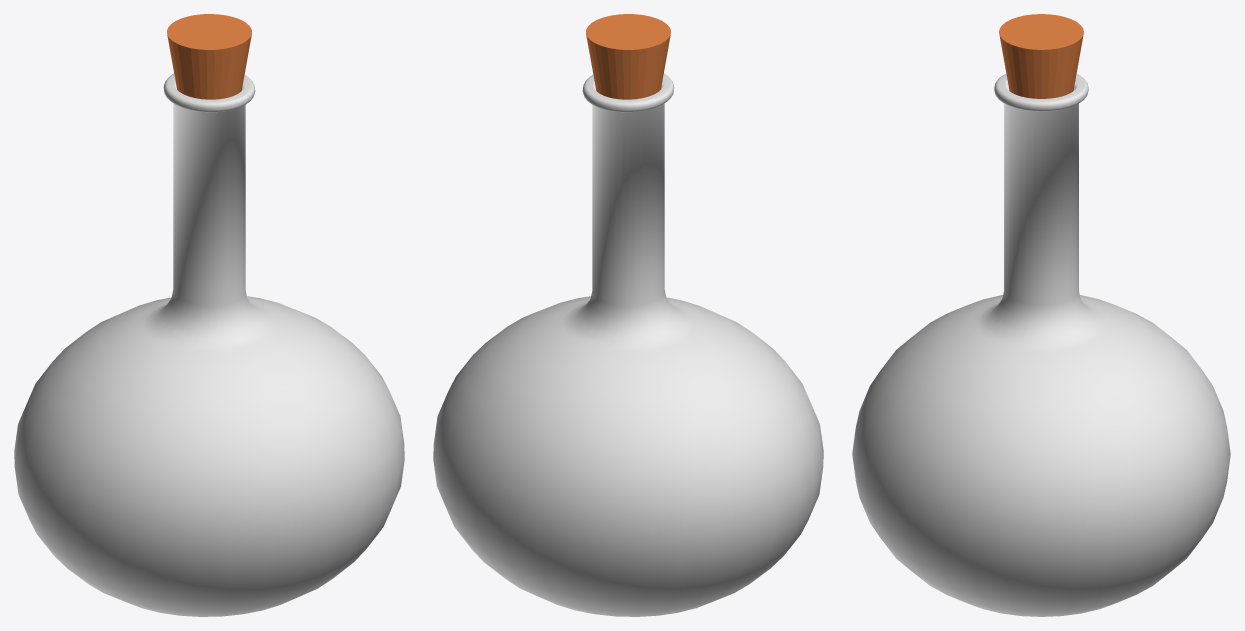
Rendered from HealthPotion.fbx.
3 views of the same model, side by side, from view 1: azimuth 30°, elevation 25°; view 2: azimuth 150°, elevation 25°; view 3: azimuth 270°, elevation 25° (orthographic).
Parts seen in each view (by area): view 1: Vial, Cork; view 2: Vial, Cork; view 3: Vial, Cork.
Part boxes in pixels (x1=…): Vial: x1=14, y1=73, x2=404, y2=616; Cork: x1=167, y1=14, x2=251, y2=99; Vial: x1=433, y1=73, x2=823, y2=616; Cork: x1=586, y1=14, x2=670, y2=99; Vial: x1=852, y1=74, x2=1230, y2=616; Cork: x1=999, y1=14, x2=1083, y2=98.
Bounding box in the file's own units: 317 × 498 × 304.
